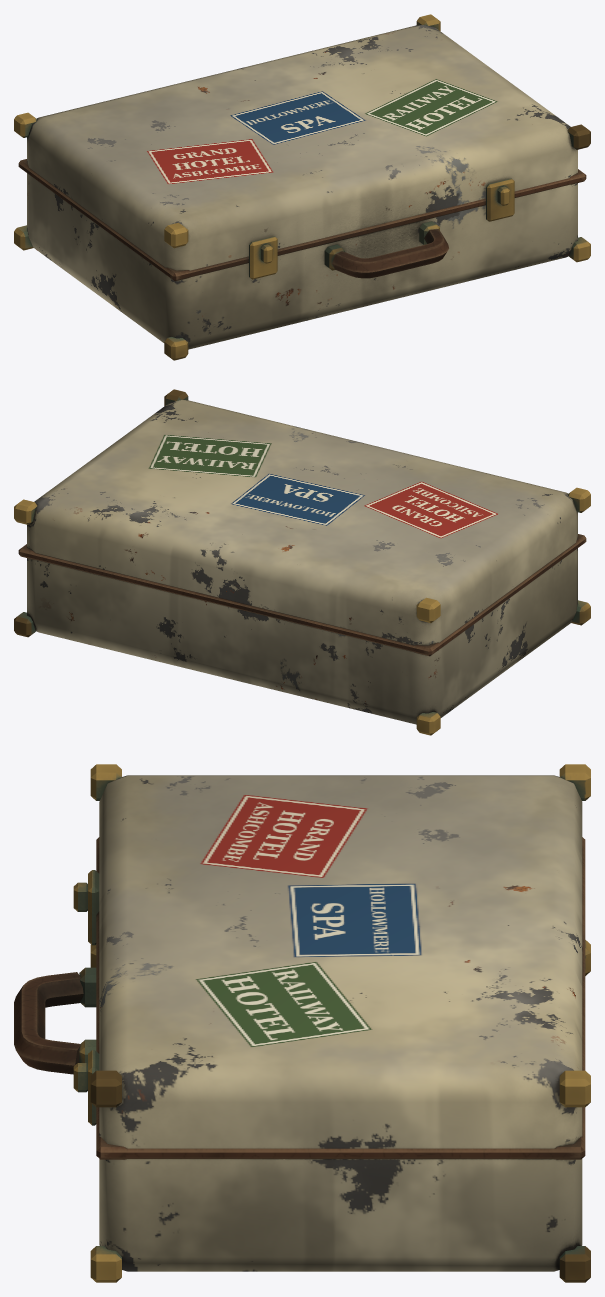
File: SuitcaseSmall.fbx
The picture shows the model from 3 angles, top to bottom: view 1: azimuth 30°, elevation 25°; view 2: azimuth 150°, elevation 25°; view 3: azimuth 270°, elevation 25°; orthographic projection. The views are drawn at different scales.
Parts seen in each view (by area): view 1: SuitcaseSmall; view 2: SuitcaseSmall; view 3: SuitcaseSmall.
Boxes of the visible parts, x1=… form: SuitcaseSmall: x1=14, y1=14, x2=590, y2=360; SuitcaseSmall: x1=14, y1=389, x2=590, y2=735; SuitcaseSmall: x1=14, y1=764, x2=590, y2=1282.
Size of the model in its own units: 1.6 by 0.48 by 1.22.
1 material, 1 textured.
